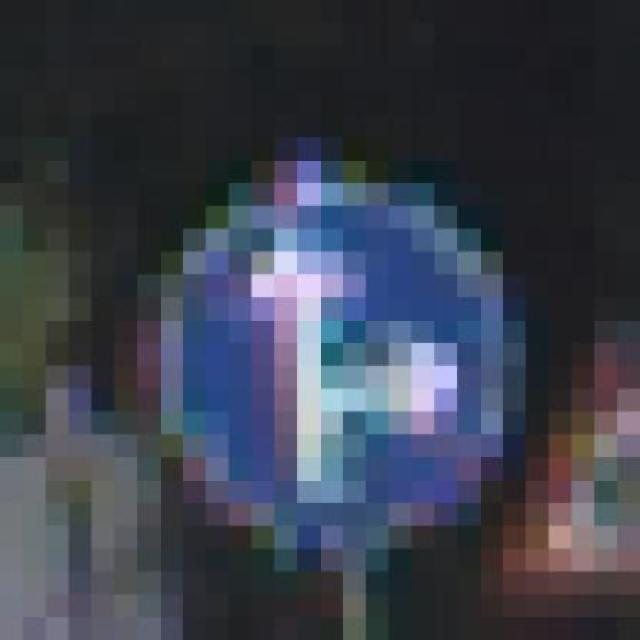Go Straight or Turn Right: (114, 137, 526, 549)
